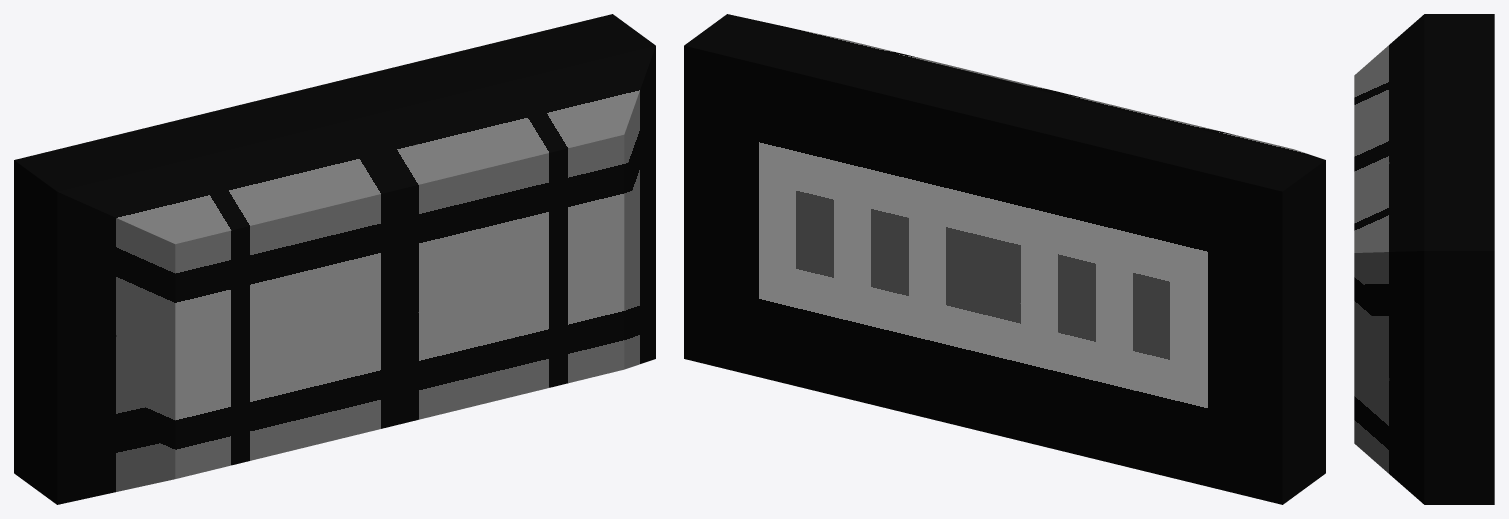
File: industrial_lamp.obj
3 renders of one model, left to right at view 1: azimuth 30°, elevation 25°; view 2: azimuth 150°, elevation 25°; view 3: azimuth 270°, elevation 25°, orthographic. The views are drawn at different scales.
Parts seen in each view (by area): view 1: Sensor_smdl; view 2: Sensor_smdl; view 3: Sensor_smdl.
Part boxes in pixels (<box>): Sensor_smdl: <box>14,14,655,504</box>; Sensor_smdl: <box>684,14,1325,504</box>; Sensor_smdl: <box>1354,14,1494,504</box>.
Size of the model in its own units: 0.5 by 0.25 by 0.125.
